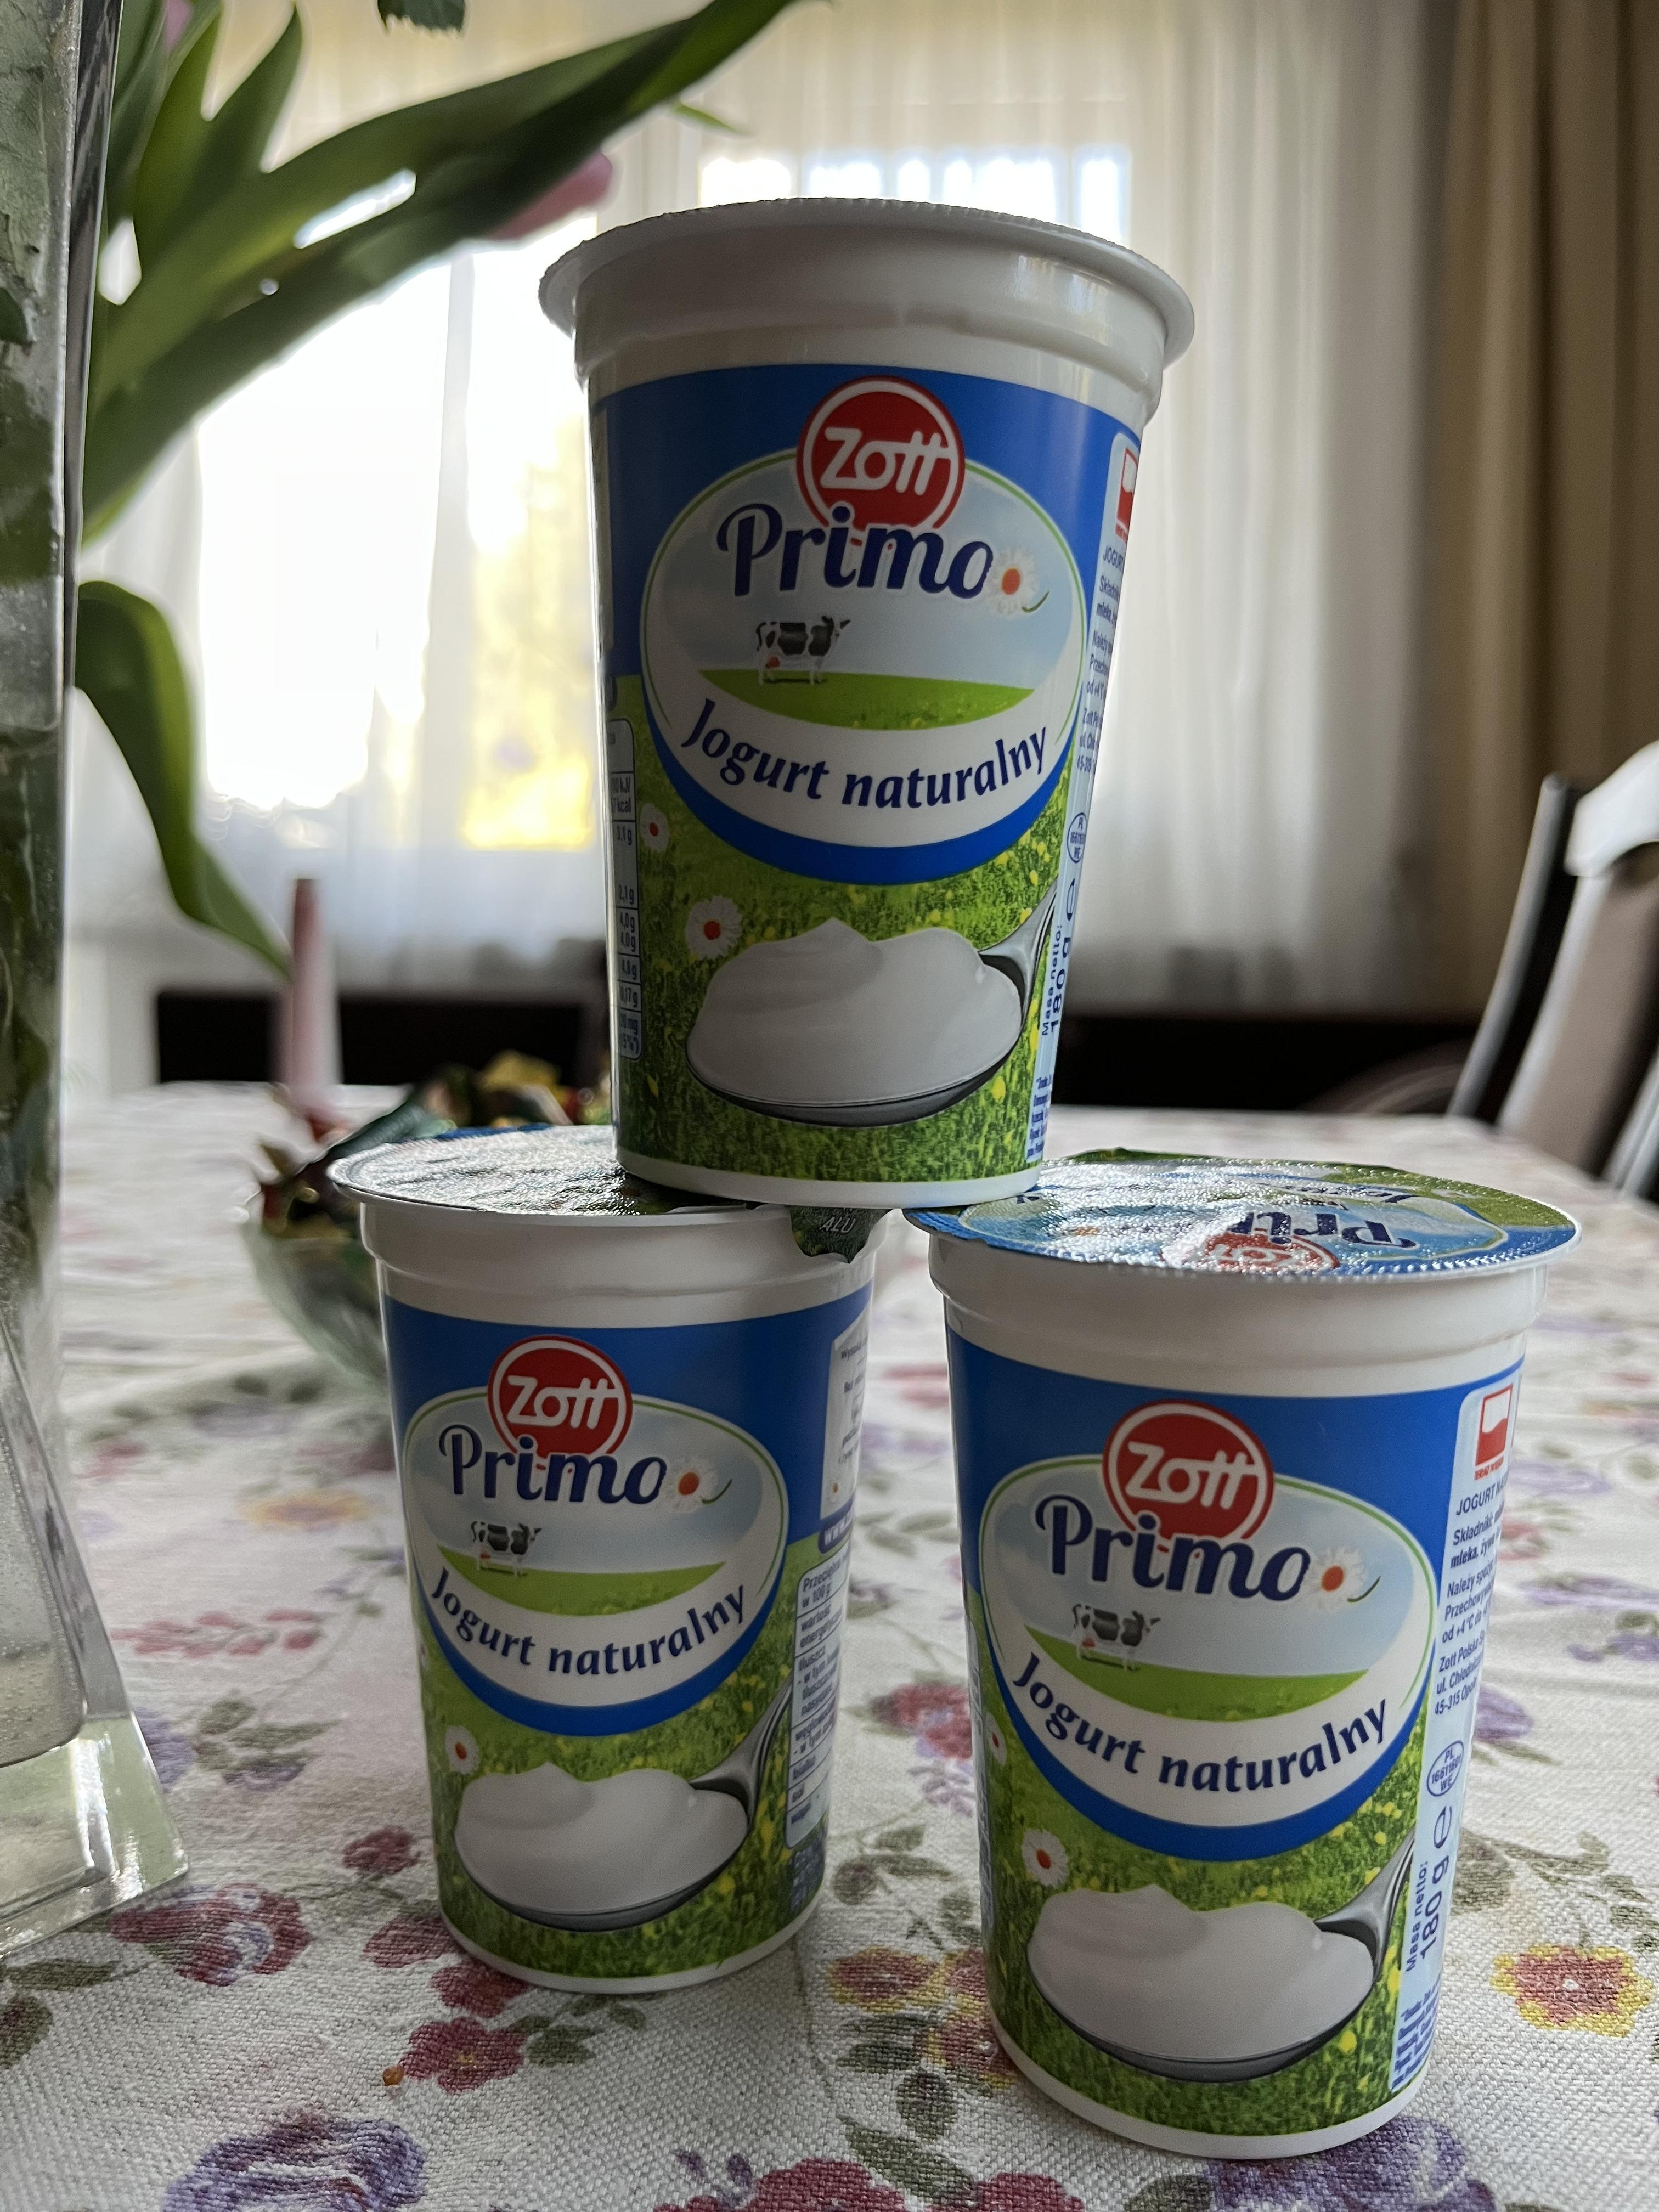Yogurt: (598, 226, 1110, 1200), (981, 1200, 1486, 2149), (394, 1155, 845, 1993)
